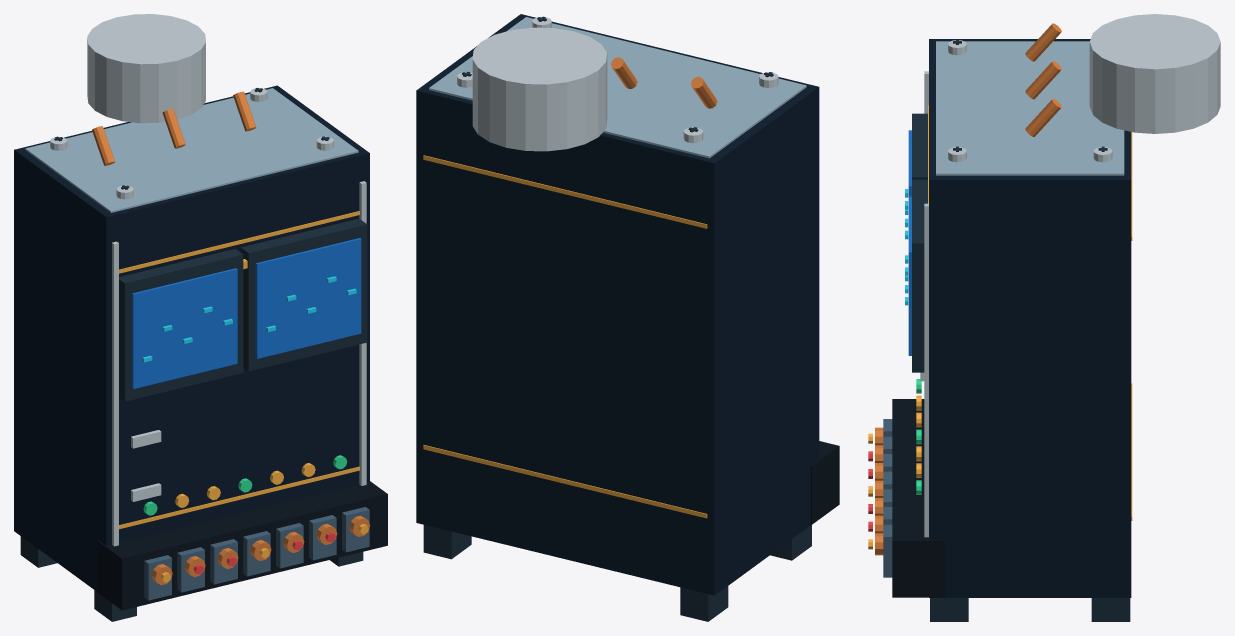
The model's file is 04_L77_PreCMPWaferInspectionScanner.fbx.
3 renders of one model, left to right at view 1: azimuth 30°, elevation 25°; view 2: azimuth 150°, elevation 25°; view 3: azimuth 270°, elevation 25°, orthographic. The views are drawn at different scales.
Parts seen in each view (by area): view 1: PreCMPWaferInspectionScanner; view 2: PreCMPWaferInspectionScanner; view 3: PreCMPWaferInspectionScanner.
Boxes of the visible parts, x1,y1,x2,y2 form: PreCMPWaferInspectionScanner: (14, 14, 387, 621); PreCMPWaferInspectionScanner: (416, 14, 839, 621); PreCMPWaferInspectionScanner: (868, 14, 1220, 621).
Size of the model in its own units: 113 by 193 by 118.
